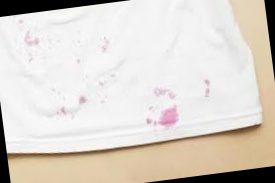wine: (153, 101, 185, 130), (15, 25, 42, 53), (194, 75, 214, 100), (70, 27, 90, 48), (97, 34, 113, 57), (154, 87, 177, 102), (48, 39, 61, 50), (71, 57, 85, 67), (57, 105, 71, 115), (99, 91, 110, 102), (76, 95, 88, 104), (48, 84, 60, 92), (107, 72, 116, 82), (62, 93, 71, 103), (98, 80, 106, 88), (144, 119, 151, 125)
